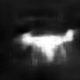plane: (14, 27, 79, 66)
